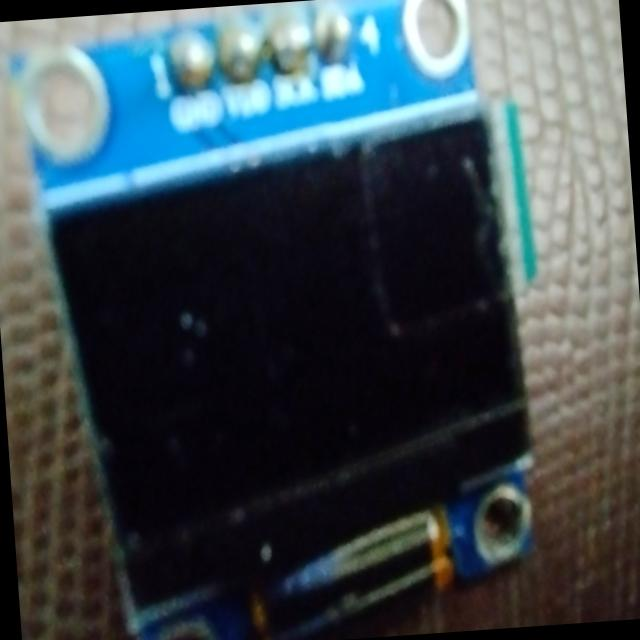oled: (0, 0, 567, 640)
